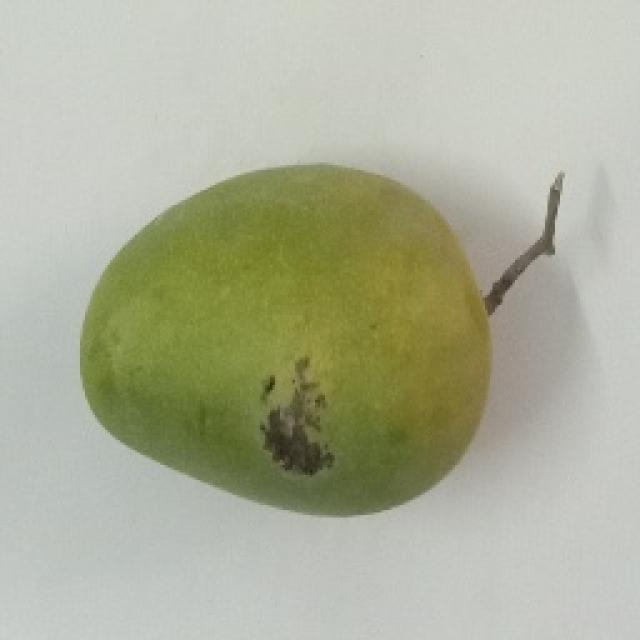defective: (78, 158, 565, 518)
